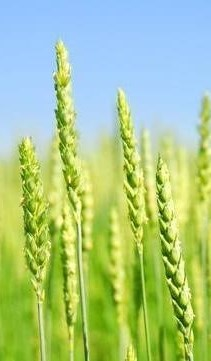Healthy Wheat: (152, 159, 200, 326)
